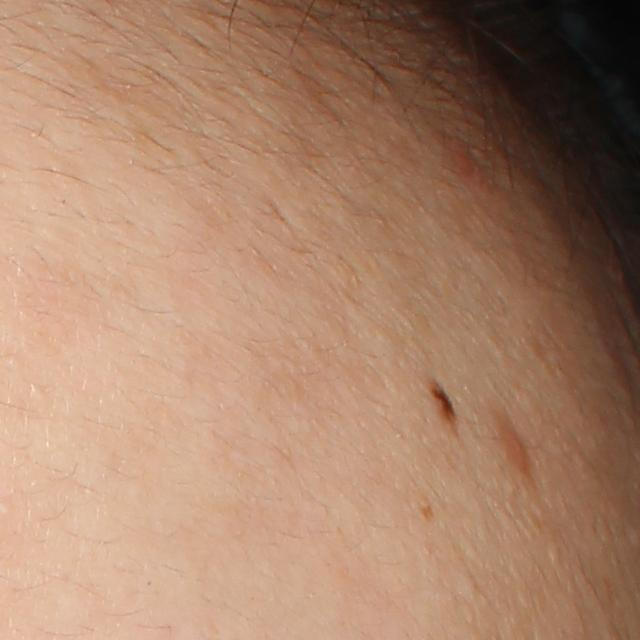nevus: (428, 374, 458, 433)
